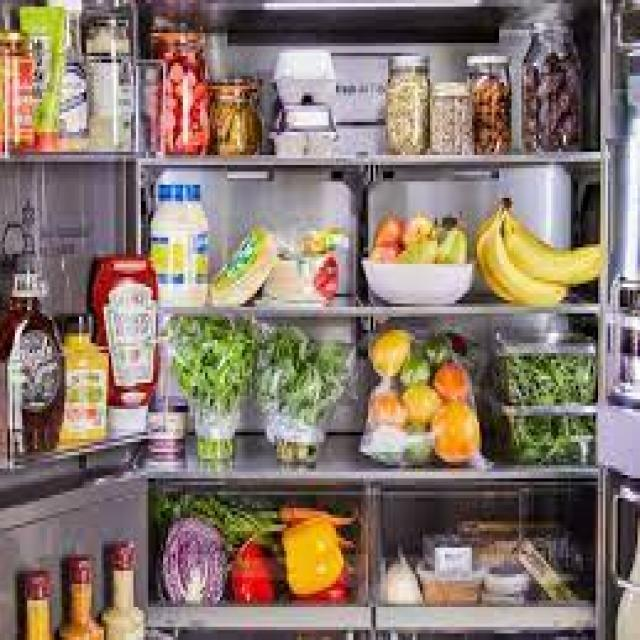bananas: (470, 176, 607, 332)
peppers: (220, 524, 359, 616)
spinach: (493, 335, 608, 475)
